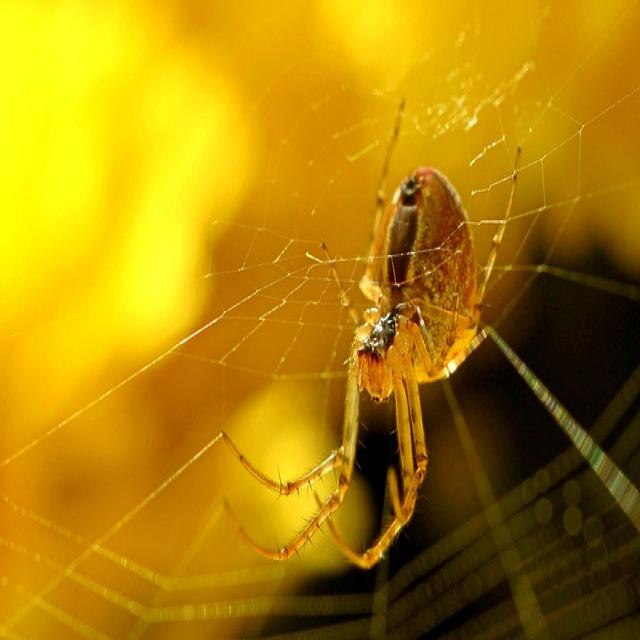spyder: (223, 169, 514, 571)
